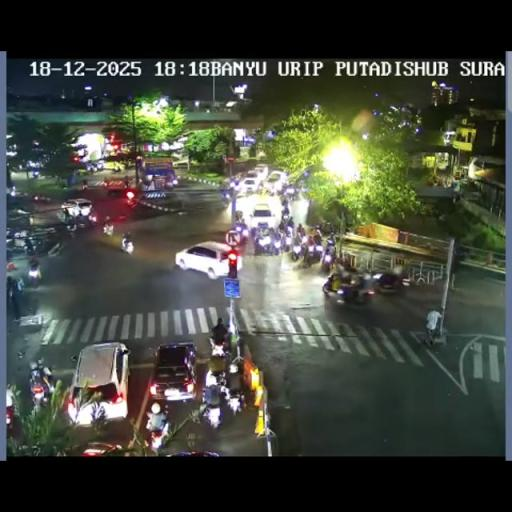Car: (66, 342, 130, 424), (148, 342, 198, 402), (174, 239, 242, 279), (250, 202, 278, 230), (61, 198, 93, 220), (78, 441, 124, 455), (265, 170, 286, 193), (238, 177, 260, 193), (253, 163, 269, 179)
Motorcycle: (145, 406, 169, 450), (336, 276, 372, 305), (29, 370, 52, 408), (372, 270, 405, 295), (199, 394, 223, 428), (203, 365, 227, 393), (5, 398, 21, 440), (253, 226, 275, 256), (424, 310, 442, 345), (8, 278, 22, 319), (230, 224, 248, 254), (226, 386, 244, 416), (209, 332, 229, 354), (322, 273, 340, 295), (320, 246, 334, 272), (28, 263, 42, 287), (302, 242, 316, 266), (25, 236, 43, 254), (454, 244, 470, 262), (290, 238, 302, 261), (120, 236, 134, 254), (316, 220, 334, 234), (339, 268, 353, 284), (281, 232, 292, 252), (271, 234, 282, 254), (313, 239, 324, 258), (65, 217, 78, 232), (125, 190, 137, 206), (283, 185, 296, 199), (6, 242, 15, 260), (220, 190, 230, 206), (102, 222, 114, 235), (326, 234, 336, 248), (296, 224, 306, 238), (280, 210, 290, 223), (300, 183, 309, 196), (281, 196, 289, 210), (235, 210, 243, 222), (112, 164, 122, 173), (123, 176, 130, 188), (88, 163, 94, 174), (81, 182, 87, 192), (10, 187, 16, 197), (102, 178, 108, 188), (32, 193, 38, 202), (32, 170, 38, 178)
